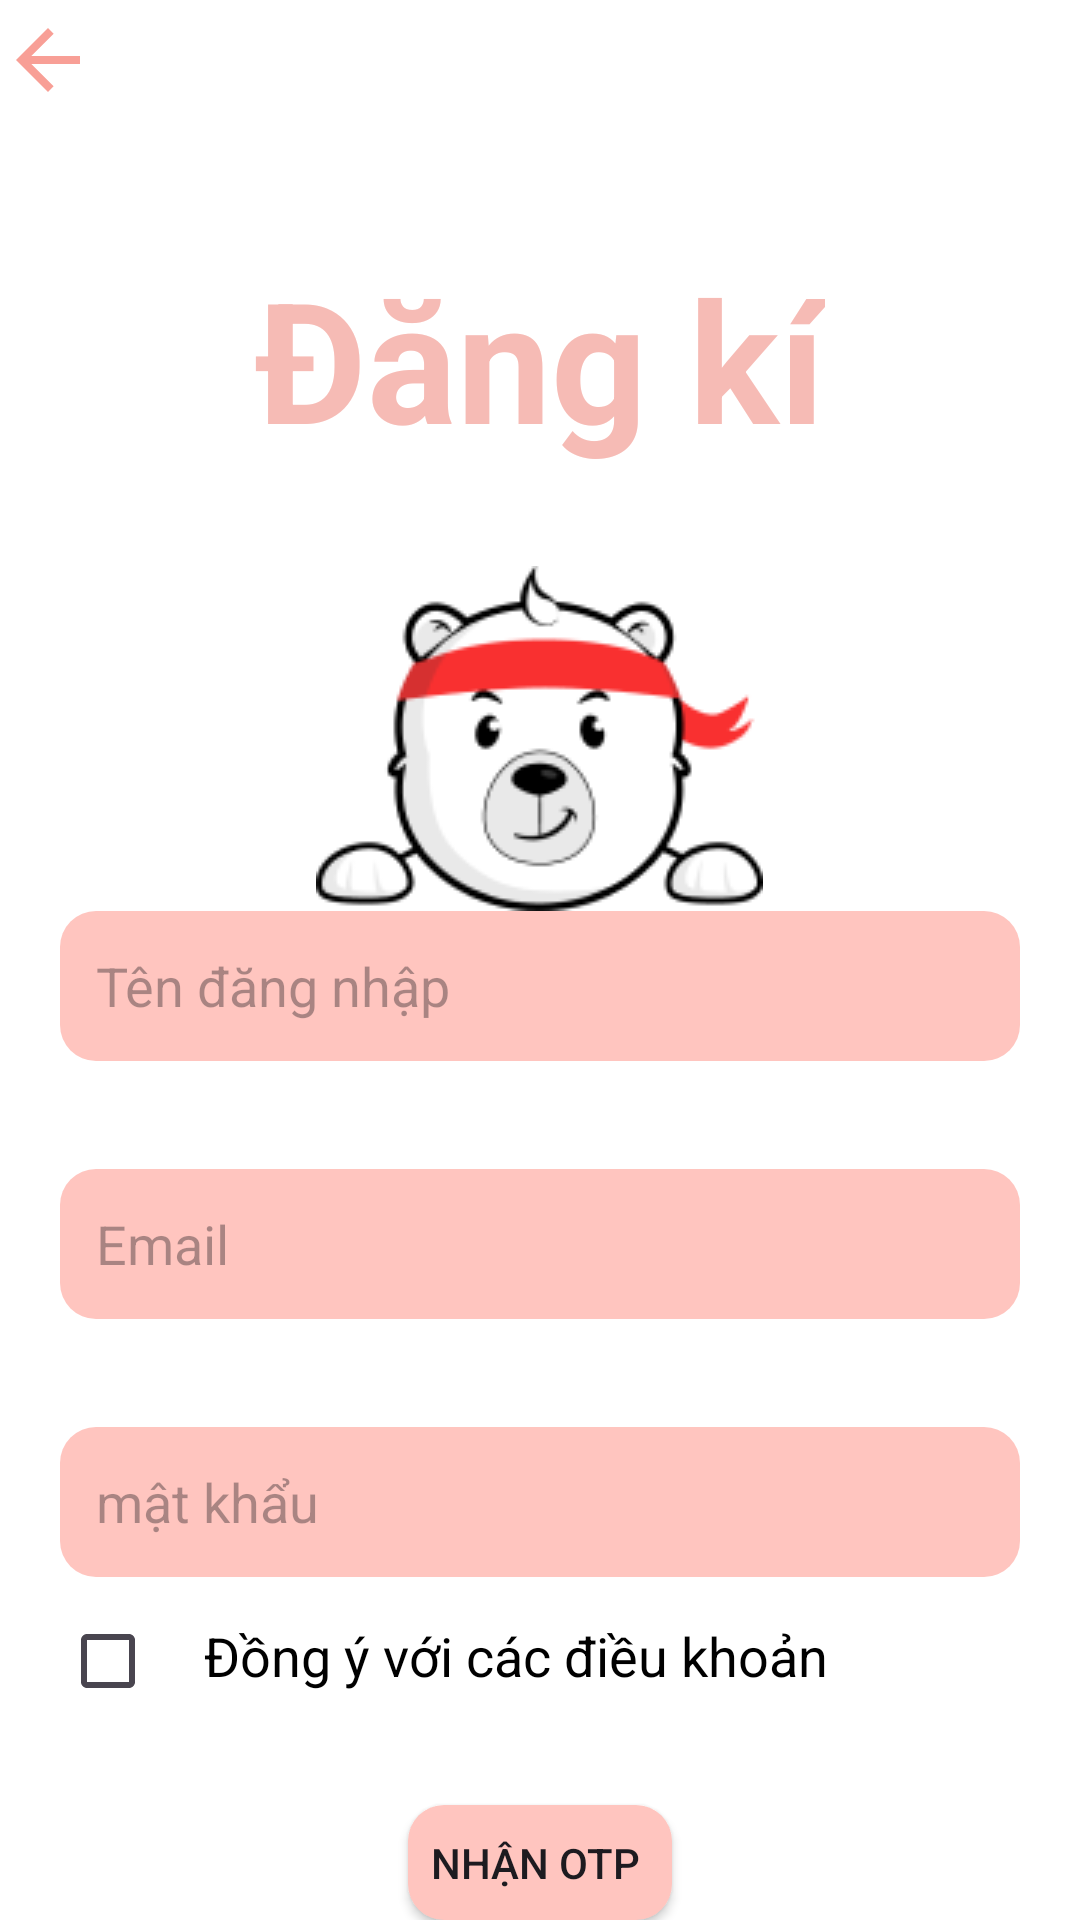

Where to tap for icons on this 1080w x 1920h app screen, as (x=x, y=y):
arrow back: (x=48, y=60)
